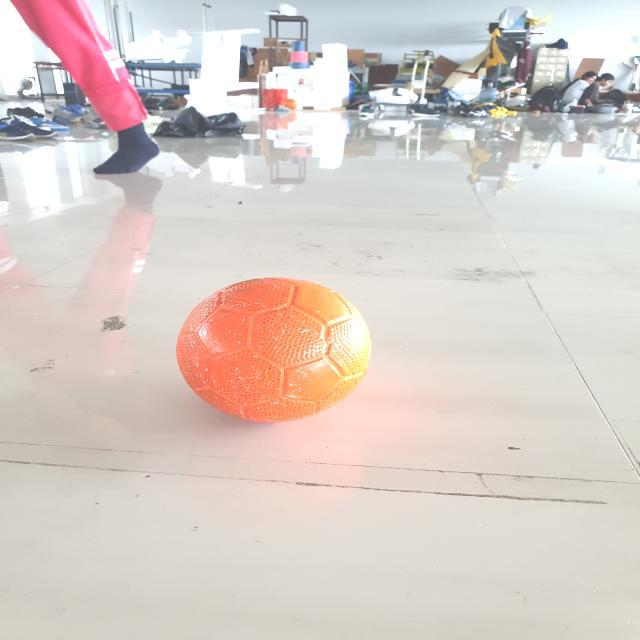bola: (162, 269, 382, 435)
